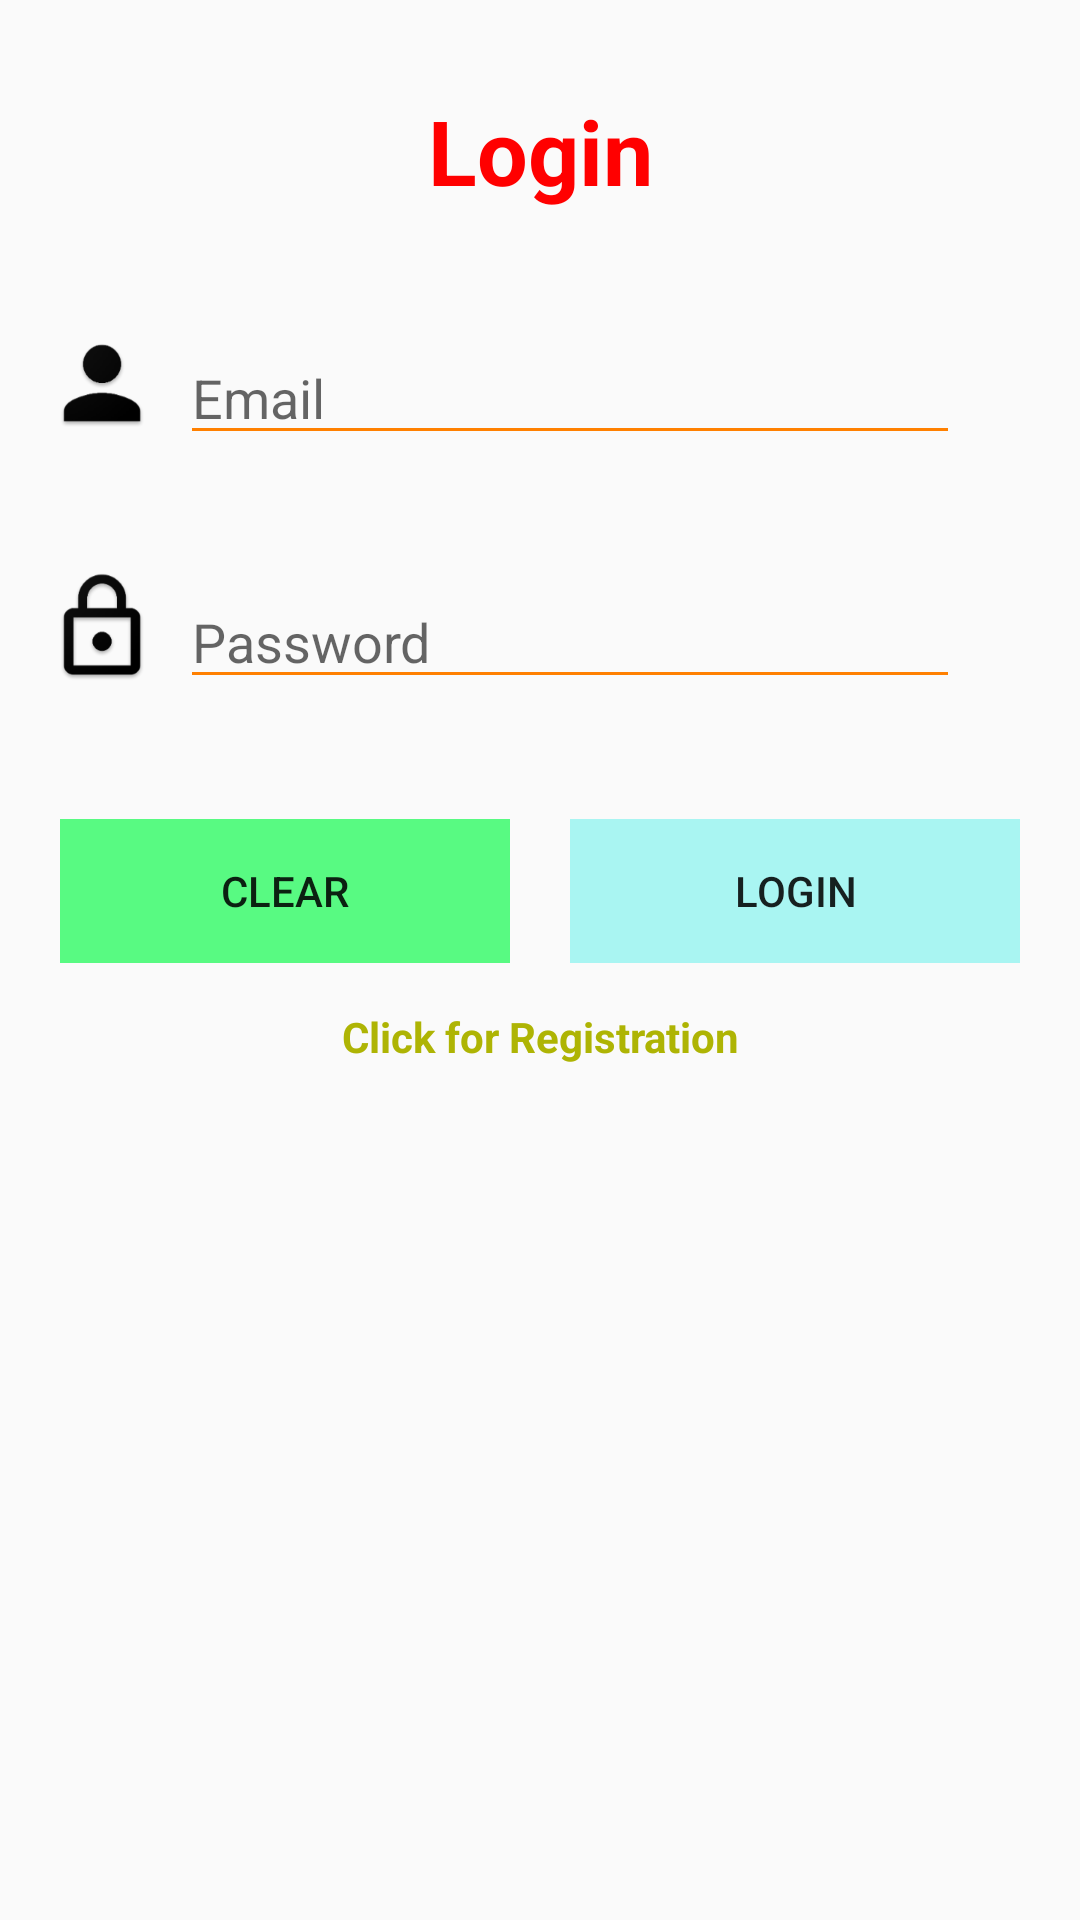

Named icons in this screenshot (1080*1920) and their centers, [x,y]:
person: [102,384]
